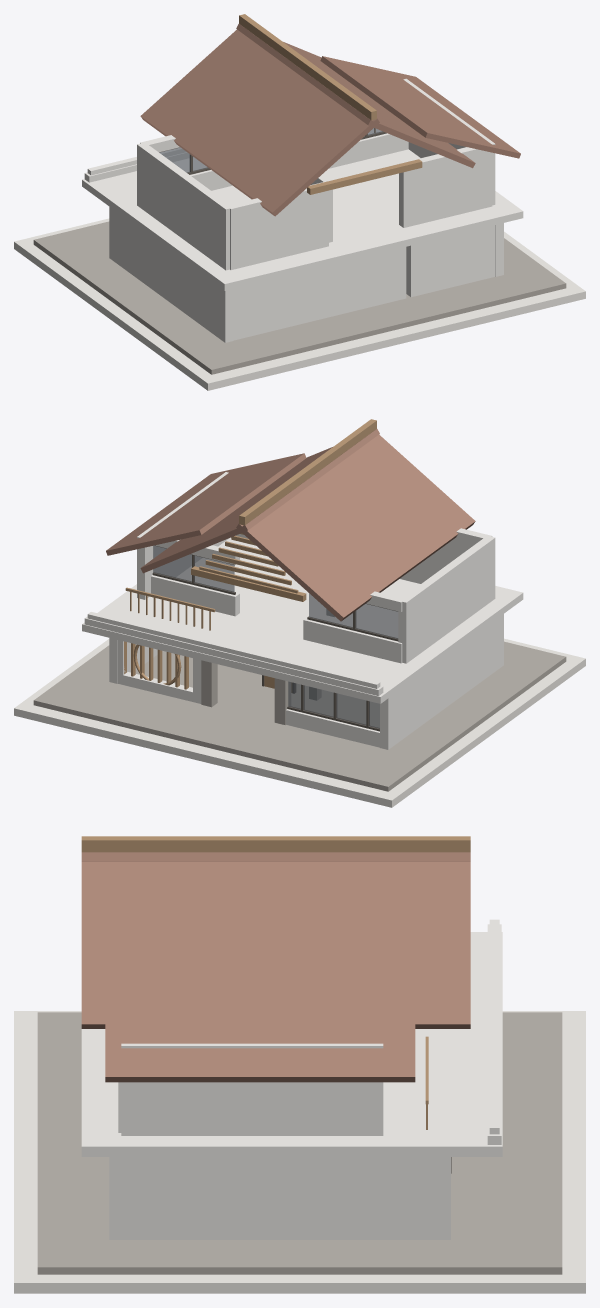
The model's file is zeyarch-process-house.glb.
The picture shows the model from 3 angles, top to bottom: view 1: azimuth 30°, elevation 25°; view 2: azimuth 150°, elevation 25°; view 3: azimuth 270°, elevation 25°; orthographic projection. The views are drawn at different scales.
Visible parts, largest first — view 1: roof_finishes, upper_floor_walls, ground_floor_walls, ground_floor_slab, upper_floor_slab, foundation, roof_structure, glass_panels; view 2: roof_finishes, ground_floor_slab, upper_floor_slab, upper_floor_walls, foundation, ground_floor_walls, glass_panels, architectural_details, roof_structure, columns, window_frames; view 3: roof_finishes, ground_floor_slab, ground_floor_walls, upper_floor_slab, foundation, upper_floor_walls, roof_structure.
Part boxes in pixels (box(x1,y1,x2,y2)): roof_finishes: box(140, 24, 520, 216); upper_floor_walls: box(137, 78, 495, 270); ground_floor_walls: box(109, 207, 503, 342); ground_floor_slab: box(33, 221, 566, 374); upper_floor_slab: box(82, 128, 523, 290); foundation: box(14, 218, 585, 390); roof_structure: box(239, 14, 422, 194); glass_panels: box(160, 128, 382, 172); roof_finishes: box(106, 429, 475, 621); ground_floor_slab: box(33, 641, 566, 791); upper_floor_slab: box(82, 537, 523, 703); upper_floor_walls: box(137, 472, 495, 663); foundation: box(14, 638, 585, 807); ground_floor_walls: box(109, 614, 503, 749); glass_panels: box(153, 545, 398, 728); architectural_details: box(124, 533, 298, 692); roof_structure: box(191, 419, 376, 601); columns: box(201, 660, 321, 724); window_frames: box(152, 545, 398, 731); roof_finishes: box(81, 852, 470, 1082); ground_floor_slab: box(37, 1012, 562, 1274); ground_floor_walls: box(109, 1157, 450, 1239); upper_floor_slab: box(81, 919, 502, 1156); foundation: box(14, 1011, 585, 1293); upper_floor_walls: box(118, 1043, 383, 1135); roof_structure: box(81, 836, 470, 852).
Bounding box in the file's own units: 16.2 × 8.87 × 14.4.
